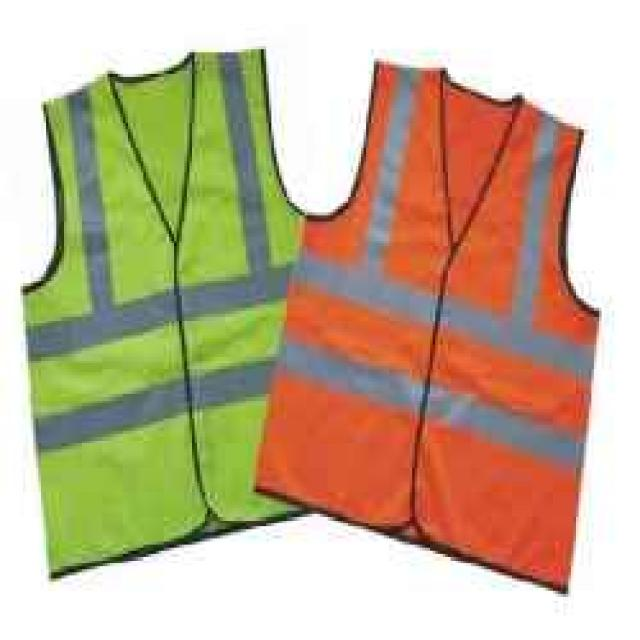Reflective-Jacket: (233, 31, 637, 594), (10, 31, 320, 600)
